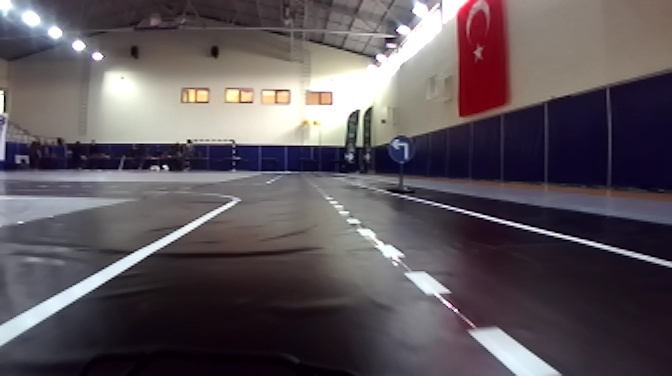sola_donus: (388, 135, 418, 164)
